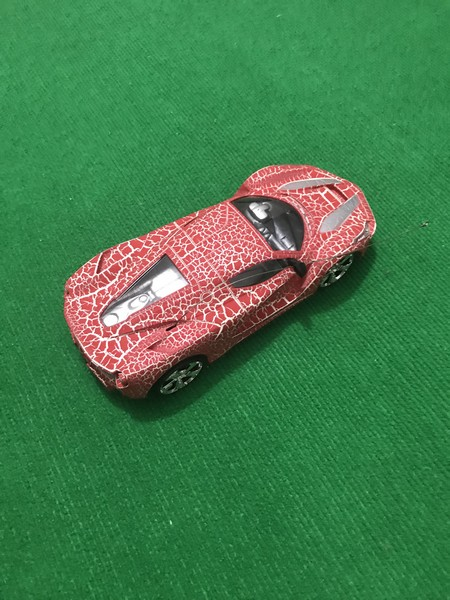RC: (60, 162, 379, 406)
